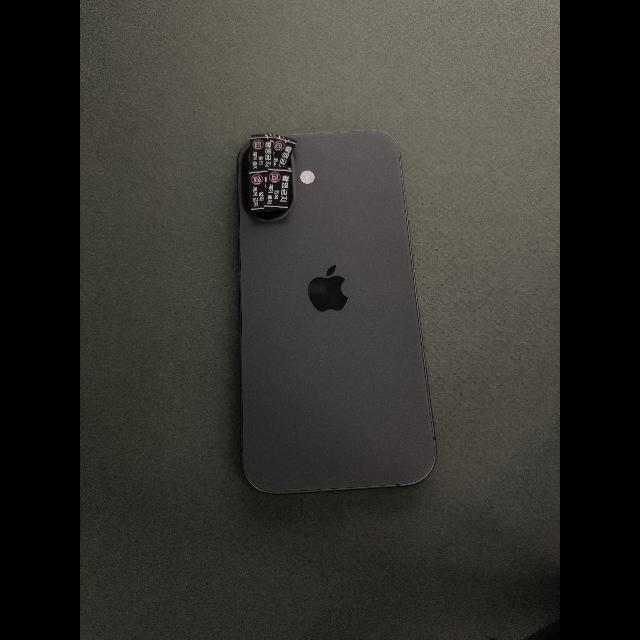phone: (236, 131, 437, 495)
sticker: (264, 166, 291, 210), (249, 172, 276, 213), (248, 133, 274, 174), (273, 135, 297, 168)
